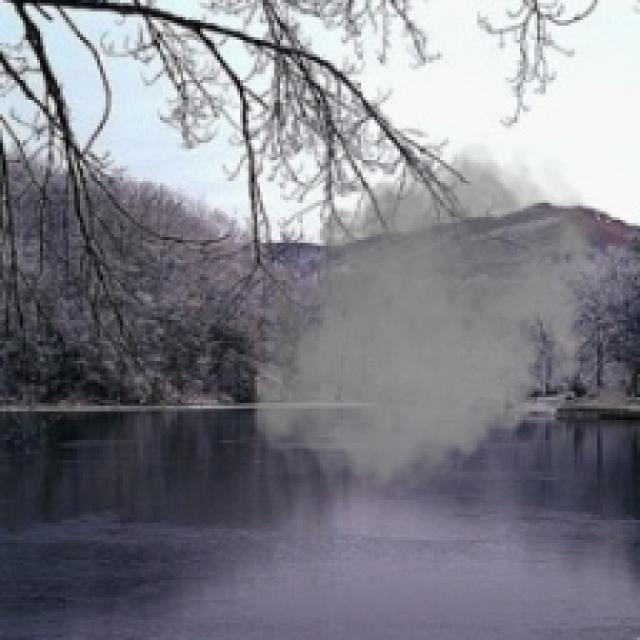Smoke: (246, 131, 608, 500)
